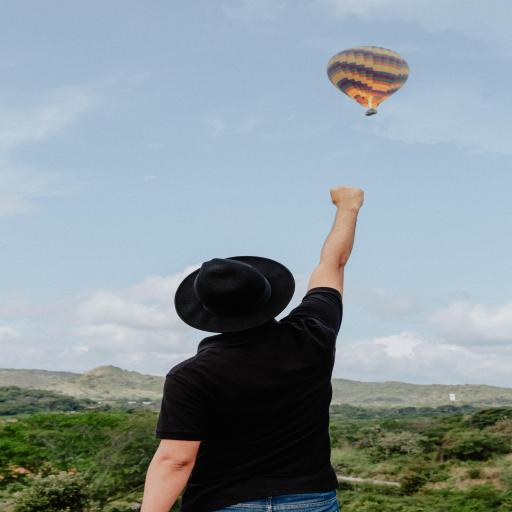hot air ballon: (327, 47, 409, 116)
